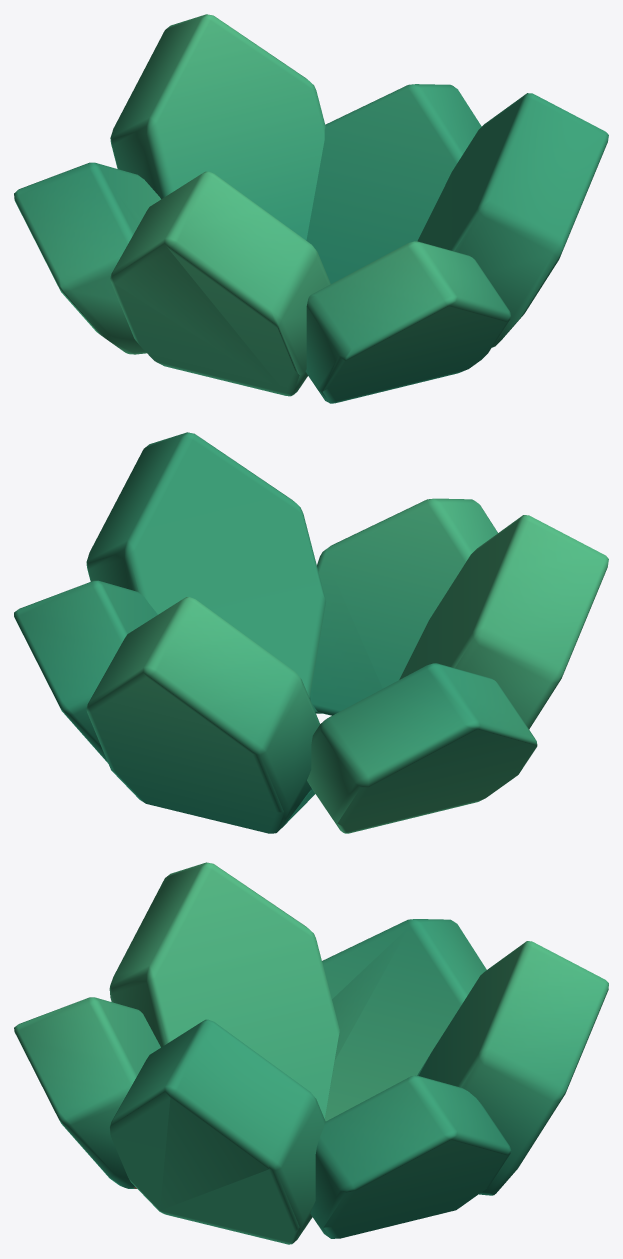
The model's file is grass-plant.glb.
3 views of the same model, one above another, from view 1: azimuth 30°, elevation 25°; view 2: azimuth 150°, elevation 25°; view 3: azimuth 270°, elevation 25° (orthographic). The views are drawn at different scales.
Parts seen in each view (by area): view 1: grass-plant; view 2: grass-plant; view 3: grass-plant.
Part boxes in pixels (x1,y1,x2,y2): grass-plant: [14, 14, 608, 403]; grass-plant: [14, 432, 608, 833]; grass-plant: [14, 862, 608, 1244].
Bounding box in the file's own units: 1.1 × 0.5222 × 1.21.
1 material, 1 textured.
